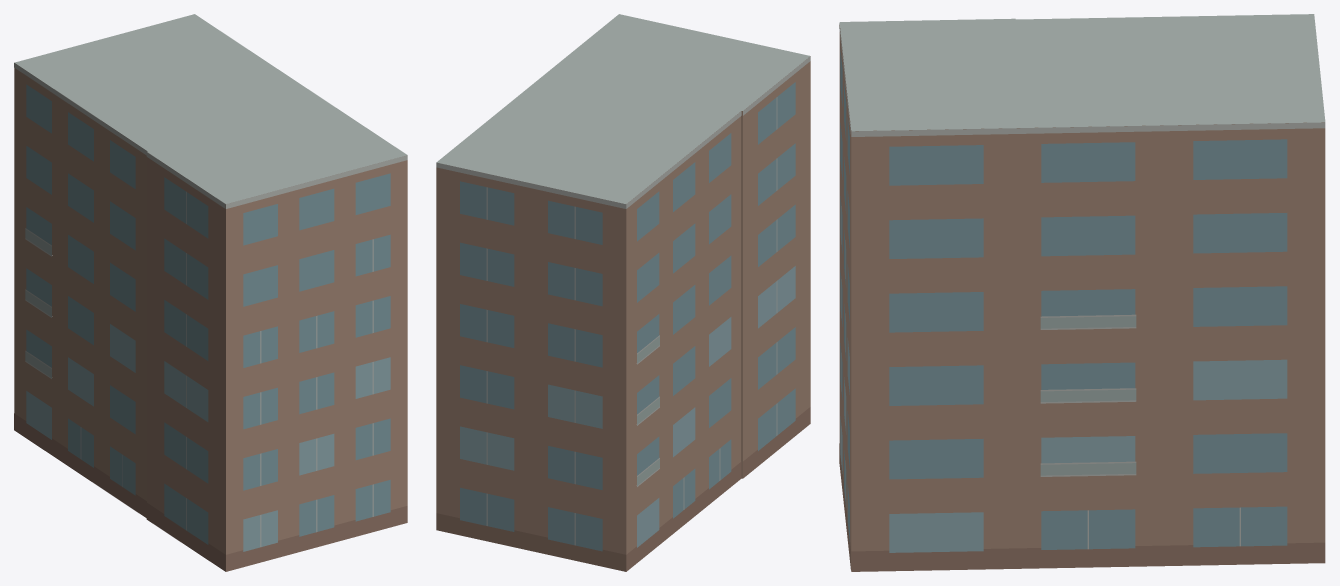
The model's file is survey-upis-32993060.glb.
The picture shows the model from 3 angles, left to right: view 1: azimuth 30°, elevation 25°; view 2: azimuth 150°, elevation 25°; view 3: azimuth 270°, elevation 25°; orthographic projection. The views are drawn at different scales.
Visible parts, largest first — view 1: survey-upis-32993060.tmp; view 2: survey-upis-32993060.tmp; view 3: survey-upis-32993060.tmp.
Part boxes in pixels (x1=…): survey-upis-32993060.tmp: x1=14, y1=14, x2=407, y2=571; survey-upis-32993060.tmp: x1=436, y1=14, x2=810, y2=571; survey-upis-32993060.tmp: x1=839, y1=14, x2=1325, y2=571.
Size of the model in its own units: 10.45 by 18.3 by 18.3.
